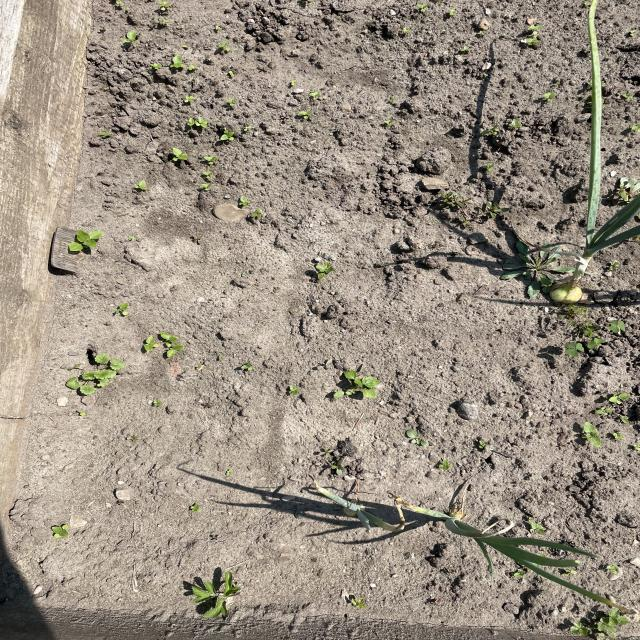Onion: (537, 0, 640, 310), (418, 506, 632, 615), (304, 480, 399, 540)
weed: (570, 390, 632, 464), (558, 305, 630, 362), (508, 235, 568, 299), (66, 348, 128, 400), (192, 565, 245, 624), (138, 327, 186, 367), (60, 227, 114, 260), (337, 366, 382, 404), (295, 257, 337, 292)
